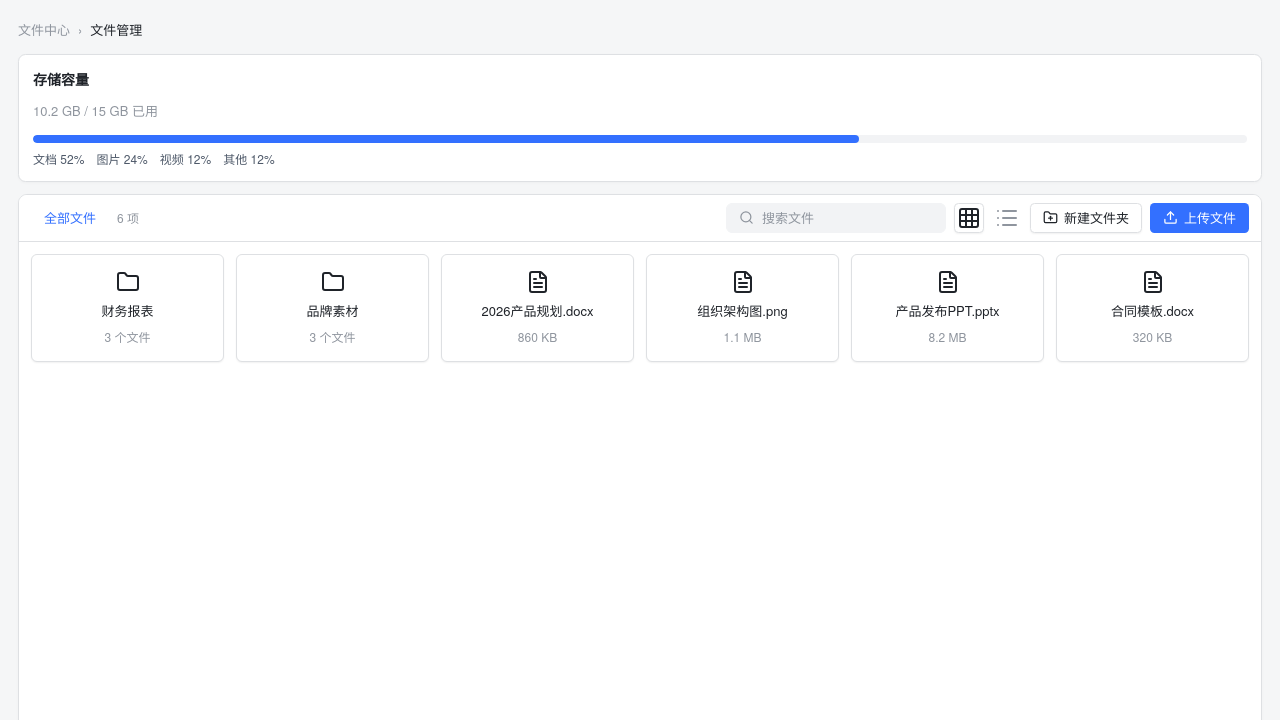
Test case: 文件页支持目录浏览、搜索和视图切换
This screenshot has width=1280, height=720.
Expected: the text "财务报表" is shown, top-left (102, 302), bottom-right (154, 321)
Click the button with aria-label "打开文件夹 财务报表". click: point(128, 308)
box: top-left (31, 254), bottom-right (224, 362)
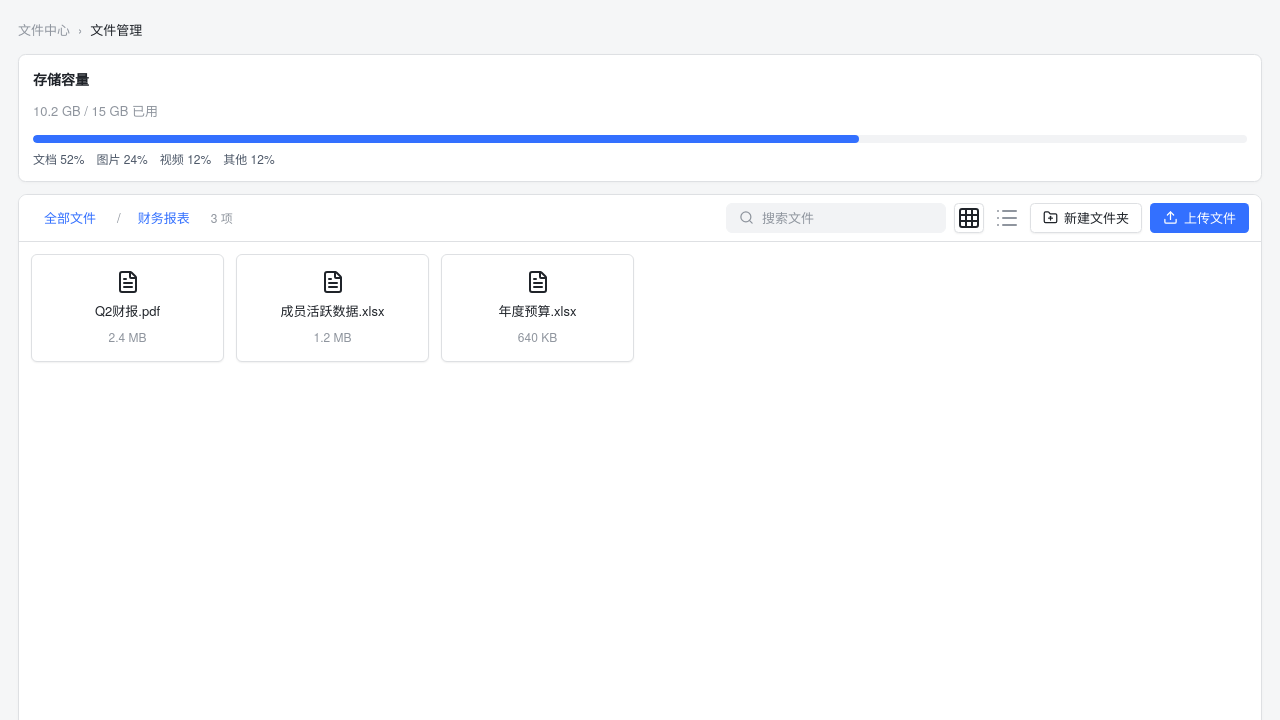
Result: the text "Q2财报.pdf" is shown at top-left (95, 302), bottom-right (160, 321)
Click the button "全部文件". click: point(70, 218)
box: top-left (31, 203), bottom-right (109, 233)
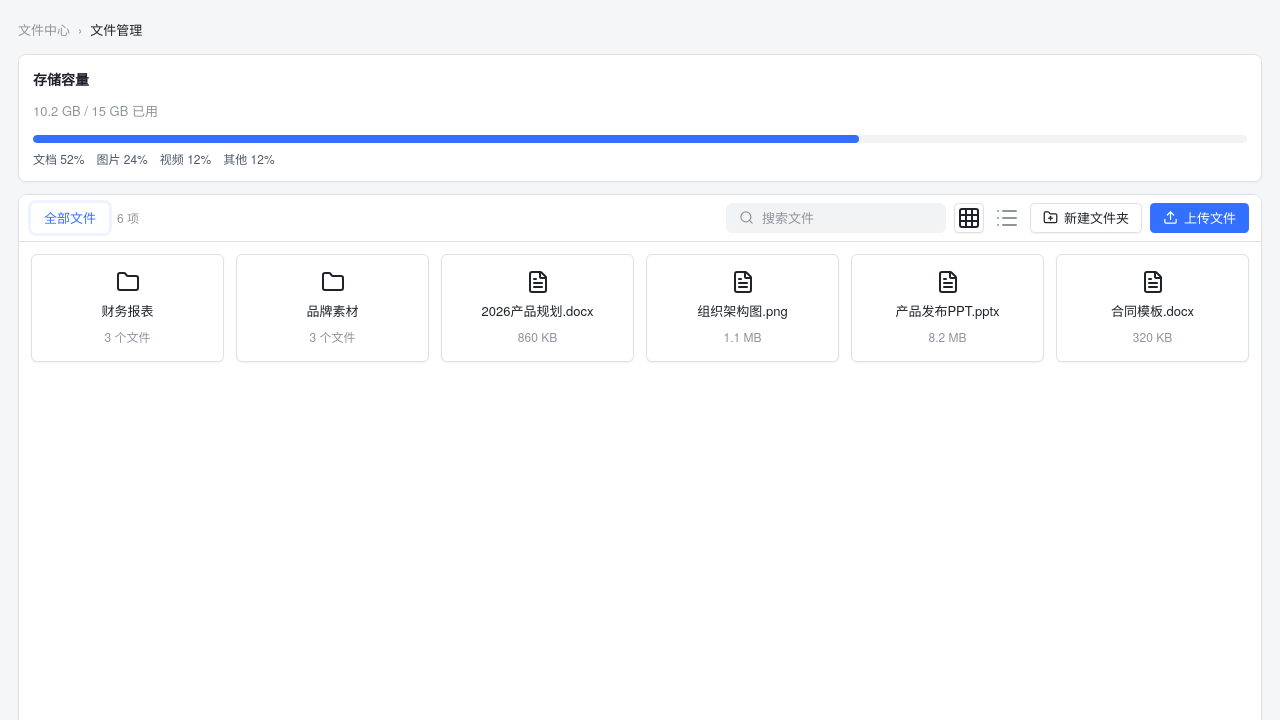
Type "组织架构" into the search field labelled "搜索文件". click: point(848, 218)
box: top-left (762, 208), bottom-right (933, 227)
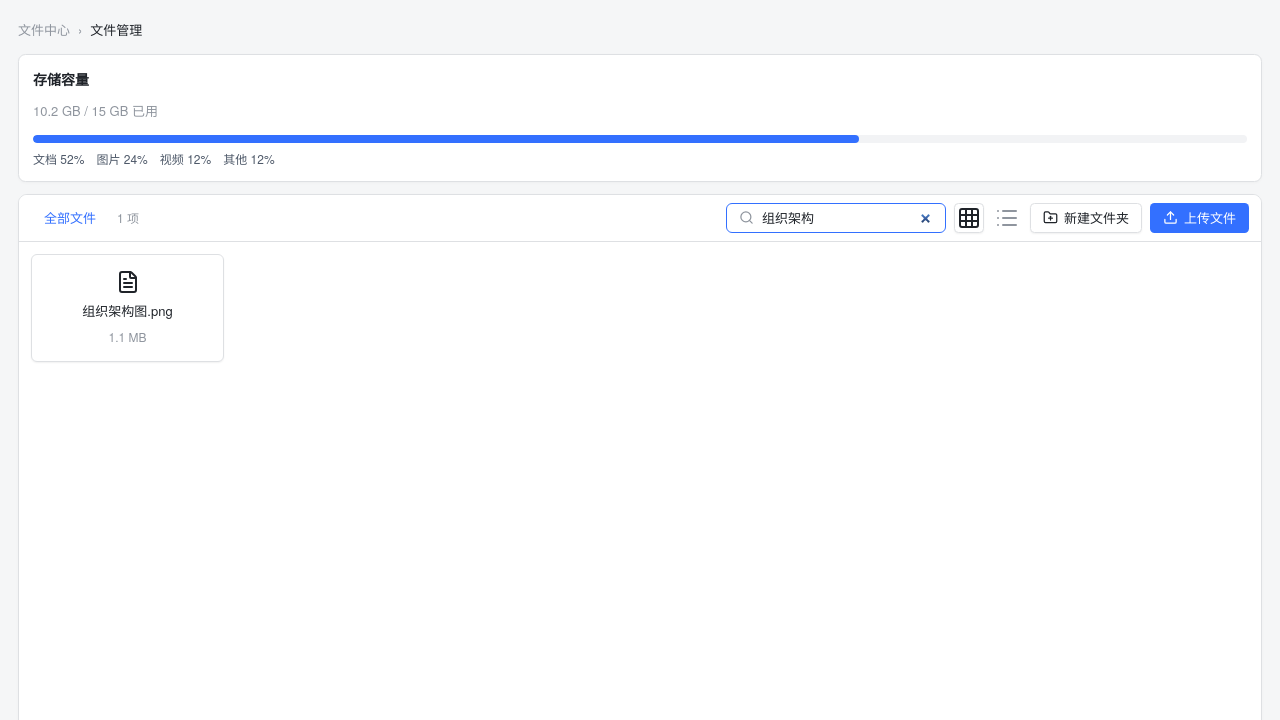
Result: the text "组织架构图.png" is shown at top-left (82, 302), bottom-right (173, 321)
Click the button named "列表视图". click: point(1007, 218)
box: top-left (992, 203), bottom-right (1022, 233)
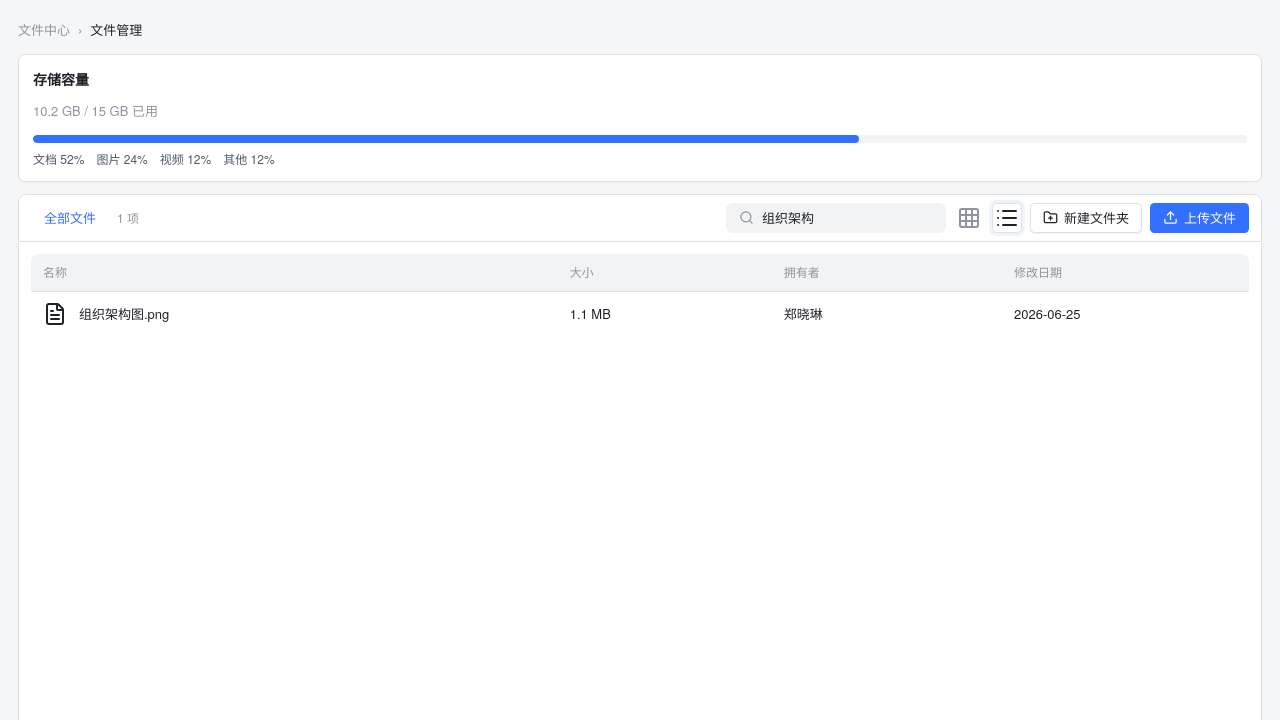
Result: the table is shown at top-left (31, 254), bottom-right (1249, 336)
